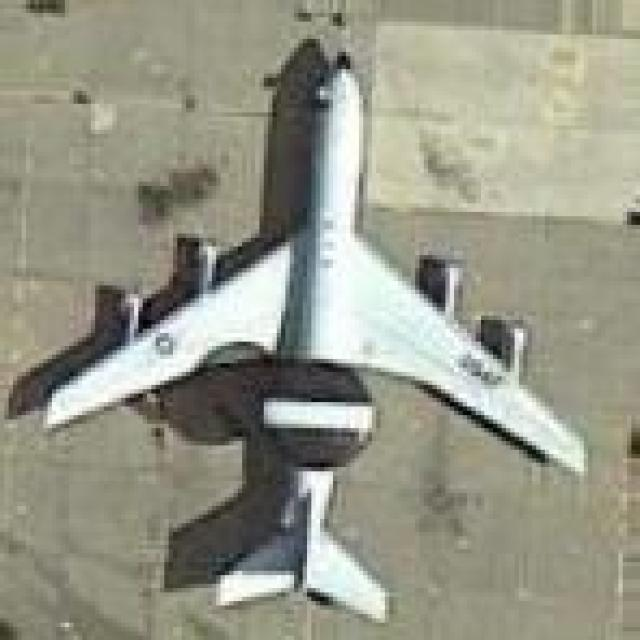E-3_TopDown: (4, 35, 588, 622)
